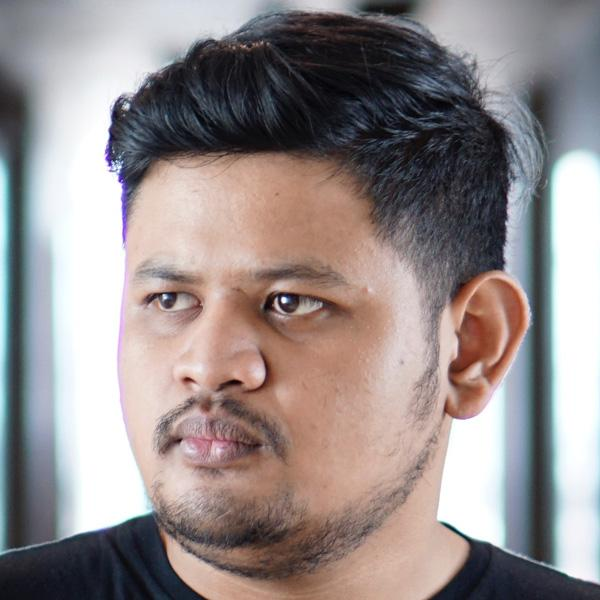Eyes: (256, 282, 337, 326), (135, 280, 205, 328)
